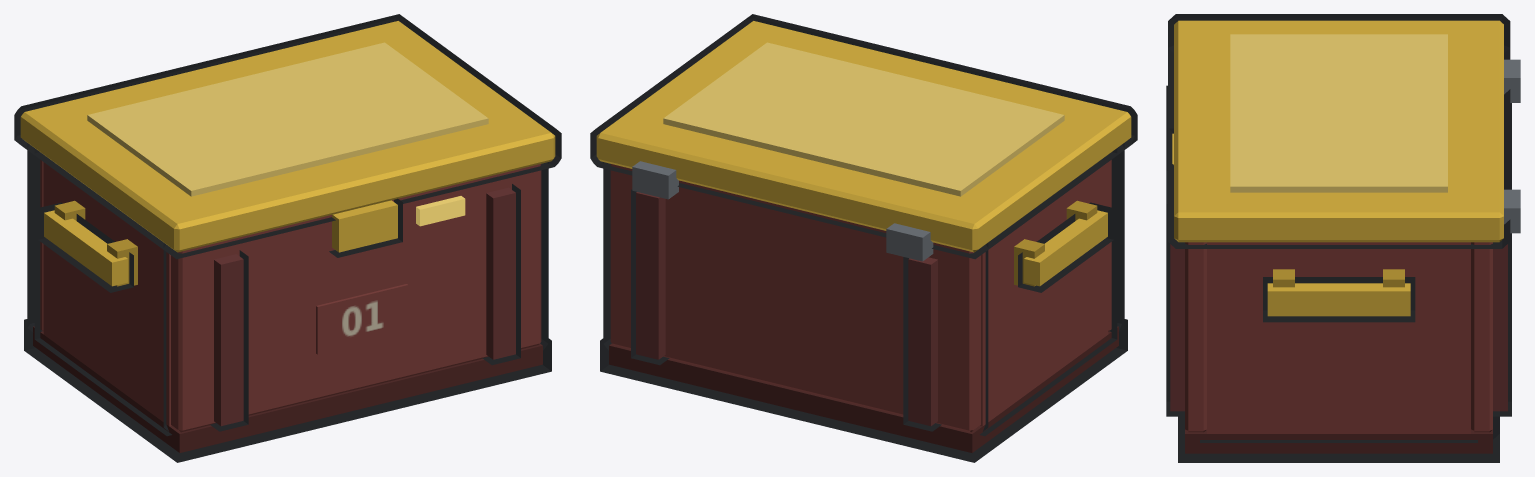
The model's file is SM_Crate.glb.
The picture shows the model from 3 angles, left to right: view 1: azimuth 30°, elevation 25°; view 2: azimuth 150°, elevation 25°; view 3: azimuth 270°, elevation 25°; orthographic projection. The views are drawn at different scales.
Visible parts, largest first — view 1: SM_Crate, SM_Crate_Lid, SM_Crate_Outline, SM_Crate_Lid_Outline, SM_Crate_Status; view 2: SM_Crate, SM_Crate_Lid, SM_Crate_Outline, SM_Crate_Lid_Outline; view 3: SM_Crate_Lid, SM_Crate, SM_Crate_Outline, SM_Crate_Lid_Outline.
Part boxes in pixels (x1,y1,x2,y2): SM_Crate: (33,160,542,452); SM_Crate_Lid: (20,21,555,252); SM_Crate_Outline: (24,143,551,462); SM_Crate_Lid_Outline: (14,14,561,259); SM_Crate_Status: (416,196,465,226); SM_Crate: (609,160,1118,452); SM_Crate_Lid: (596,21,1131,261); SM_Crate_Outline: (600,143,1127,462); SM_Crate_Lid_Outline: (590,14,1137,259); SM_Crate_Lid: (1174,20,1520,242); SM_Crate: (1170,133,1507,453); SM_Crate_Outline: (1166,85,1511,462); SM_Crate_Lid_Outline: (1168,14,1510,248).
Bounding box in the file's own units: 0.9418 × 0.532 × 0.644.
Materials: 3 (1 with a texture image).
